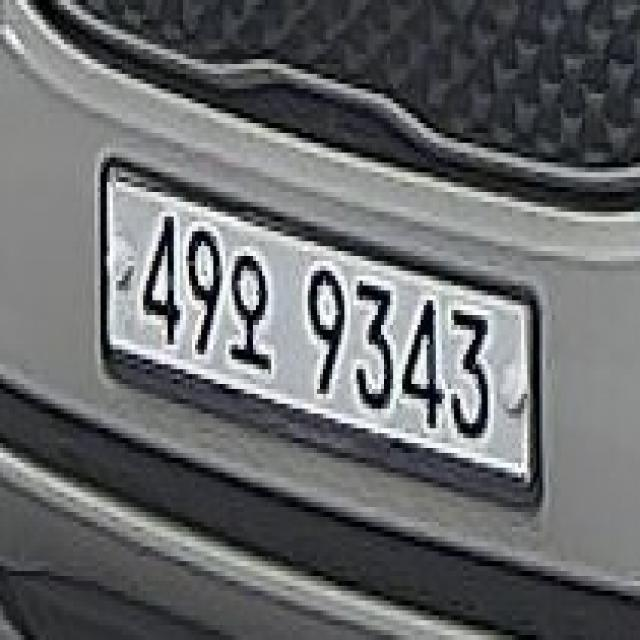3: (448, 303, 494, 444), (352, 276, 395, 420)
4: (398, 291, 446, 432), (141, 211, 181, 355)
9: (300, 263, 345, 406), (187, 223, 224, 366)
license_plate: (92, 134, 567, 542)
o: (229, 245, 279, 382)
